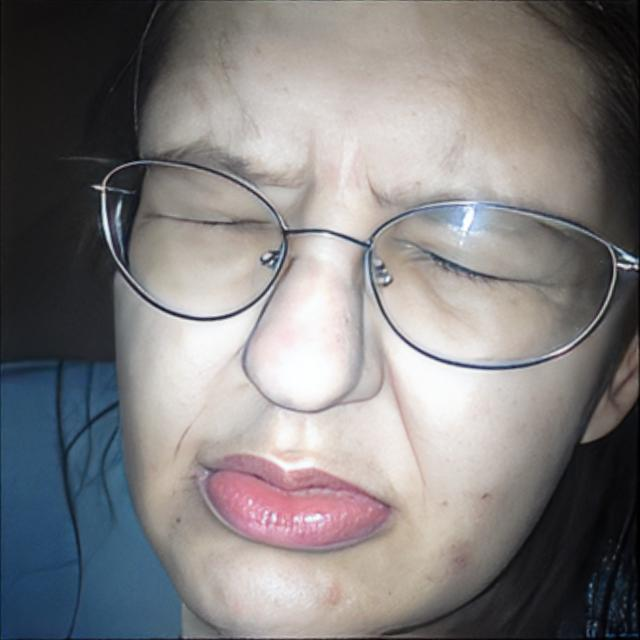disgust: (112, 0, 640, 640)
